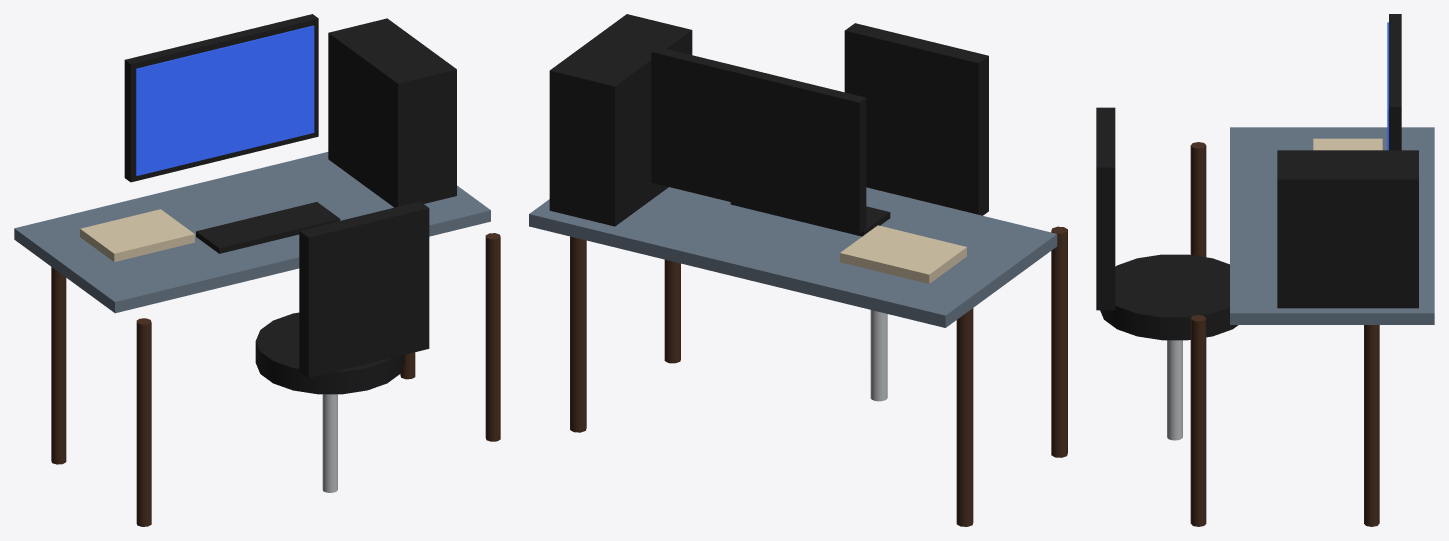
Rendered from computer.glb.
3 views of the same model, side by side, from view 1: azimuth 30°, elevation 25°; view 2: azimuth 150°, elevation 25°; view 3: azimuth 270°, elevation 25° (orthographic). The views are drawn at different scales.
Visible parts, largest first — view 1: computer; view 2: computer; view 3: computer.
Part boxes in pixels (x1=…): computer: x1=14, y1=14, x2=500, y2=526; computer: x1=529, y1=14, x2=1067, y2=526; computer: x1=1096, y1=14, x2=1434, y2=526.
Bounding box in the file's own units: 1.4 × 1.32 × 1.07.
Materials: 2 (2 with a texture image).
